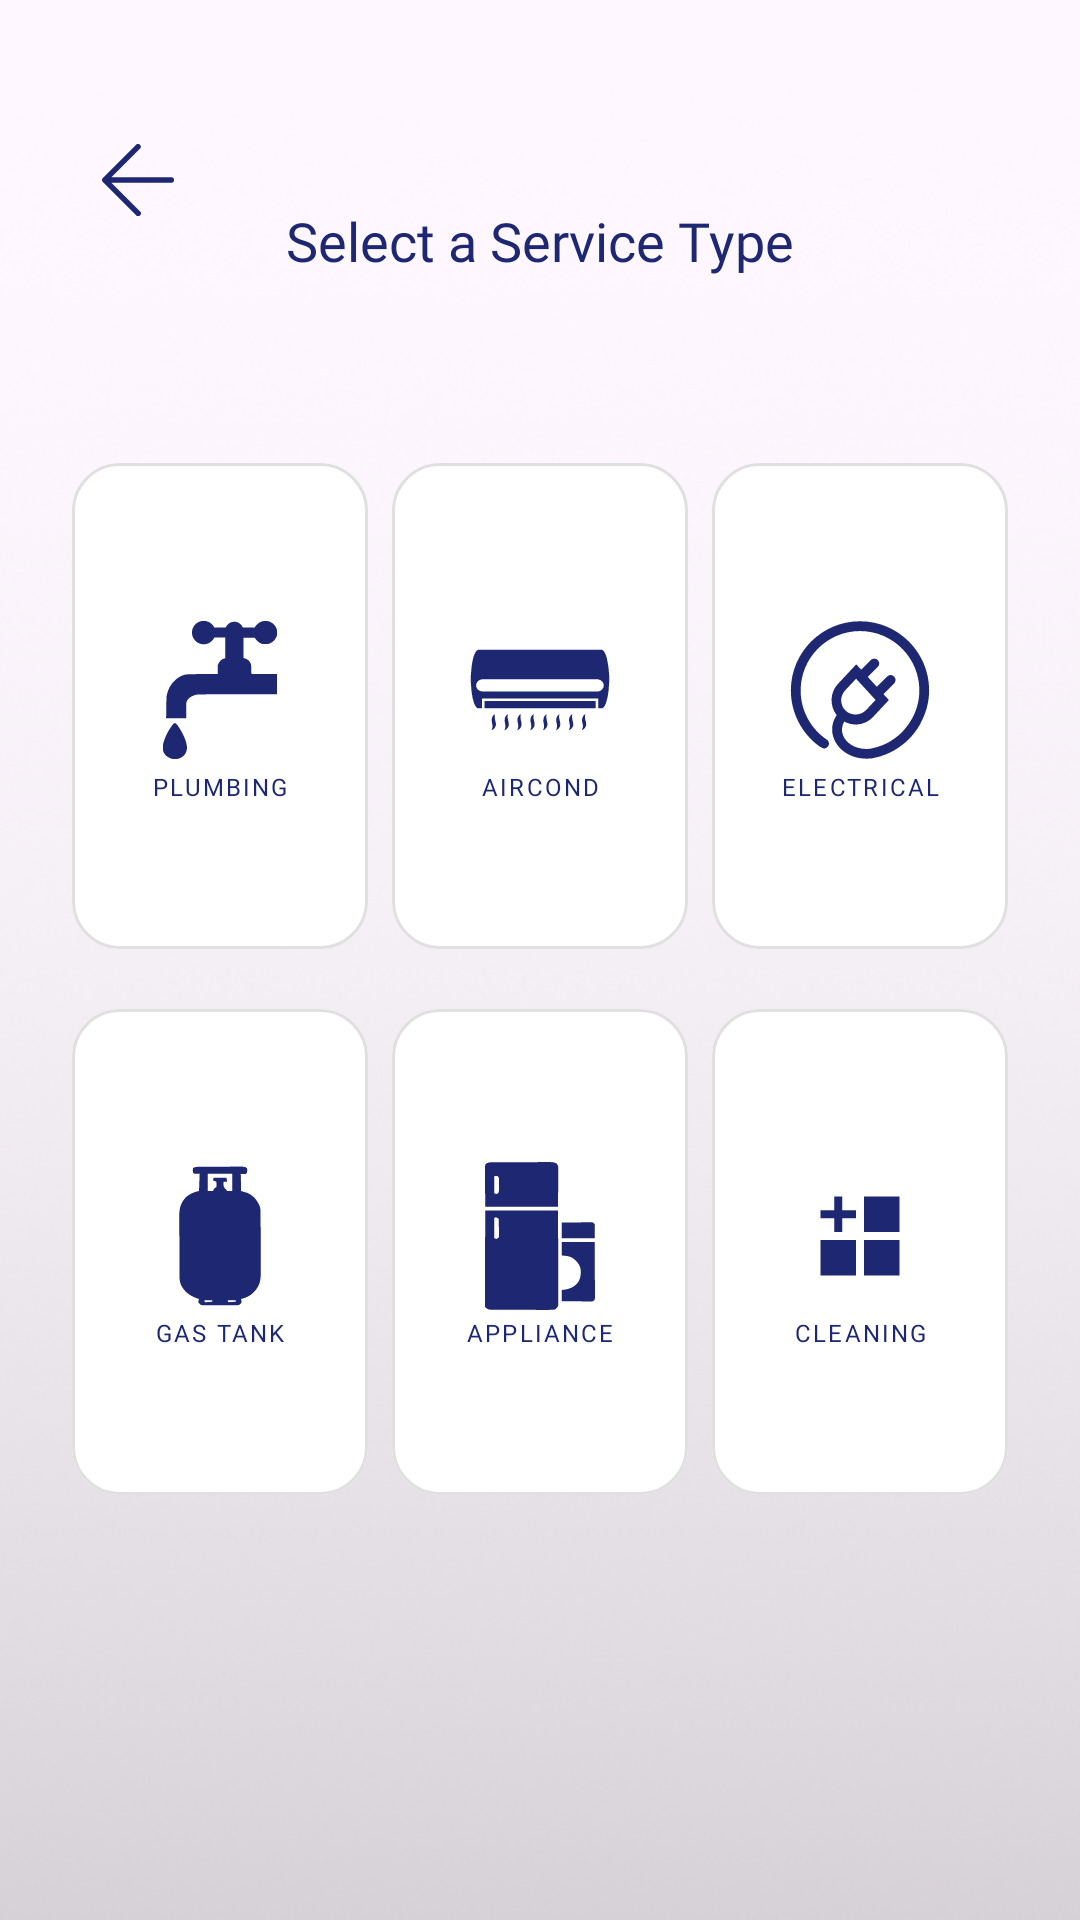

Where to tap for icons on this 1080w x 1920h app screen, as point (x, y):
Back: point (138, 180)
